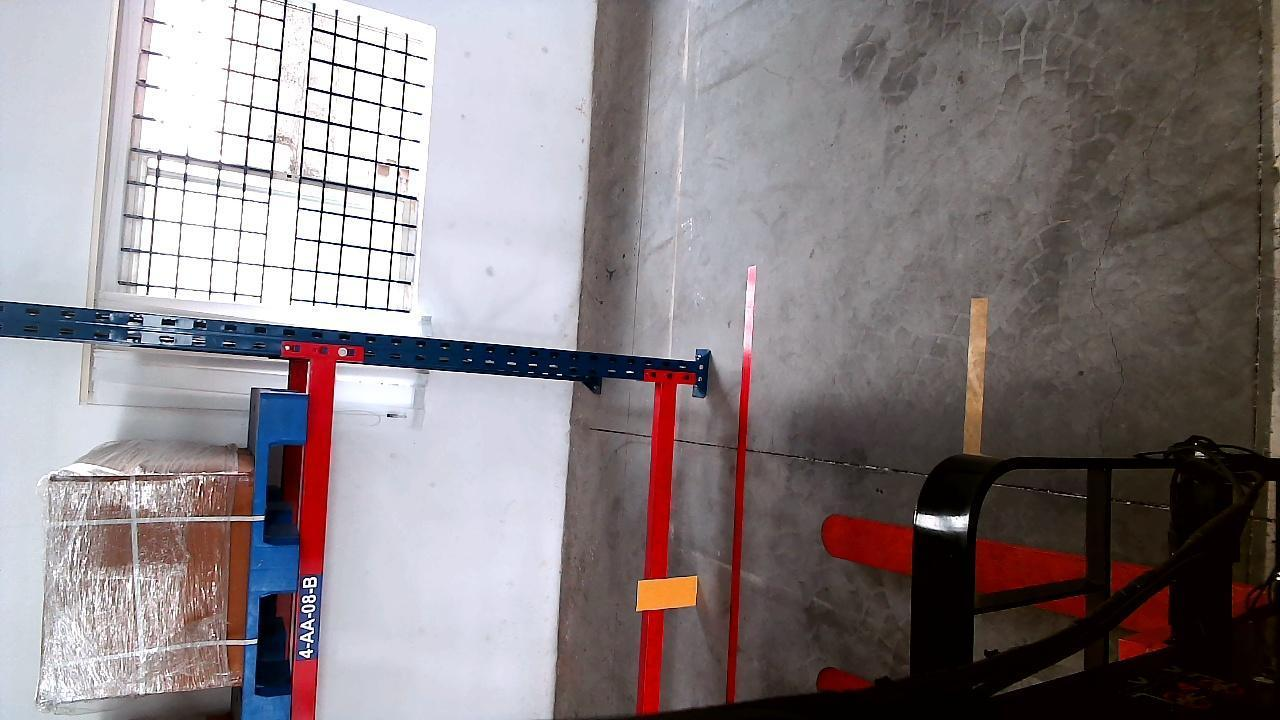h_rack: (293, 358, 335, 720), (637, 384, 676, 713)
orange_strip: (640, 575, 698, 611)
red_line: (728, 263, 758, 708)
small_pallet: (237, 384, 306, 712)
yellow_line: (965, 299, 987, 452)
